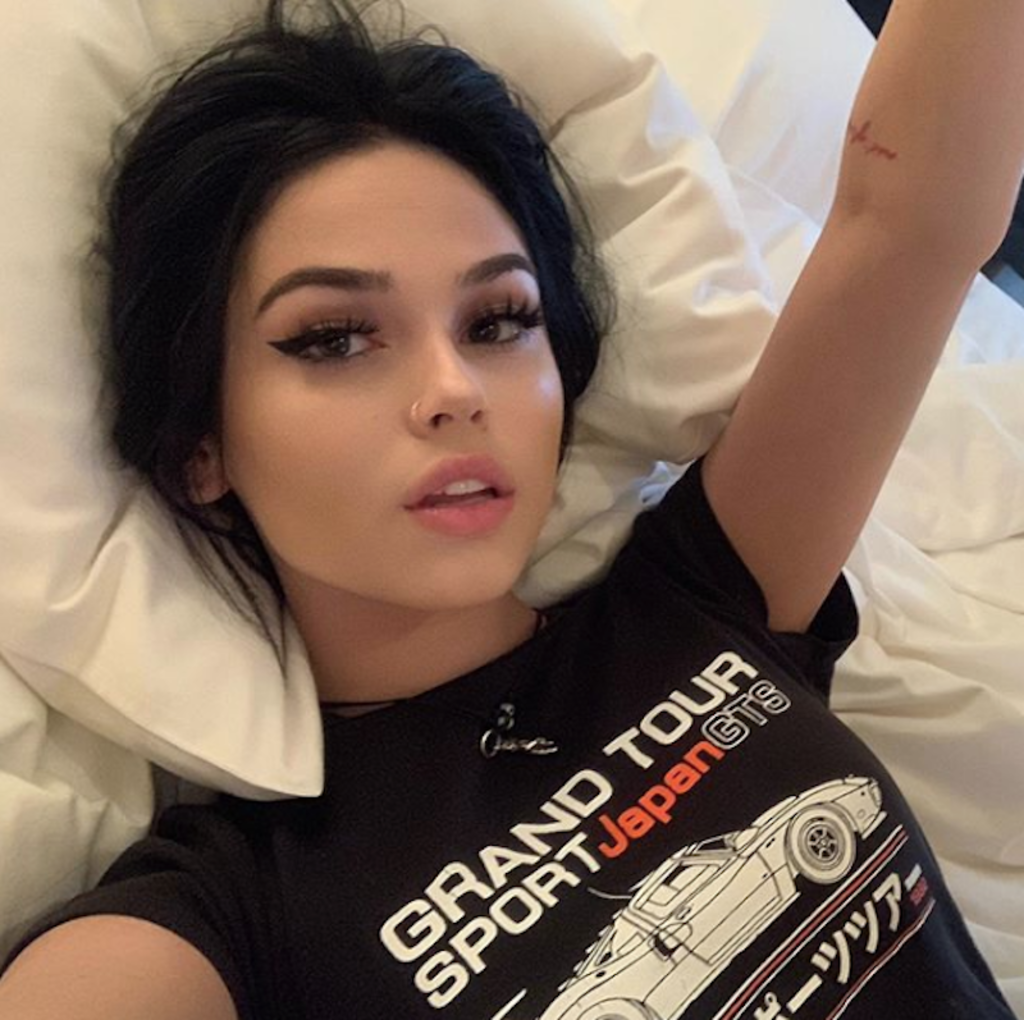GIRL: (145, 106, 567, 603)
